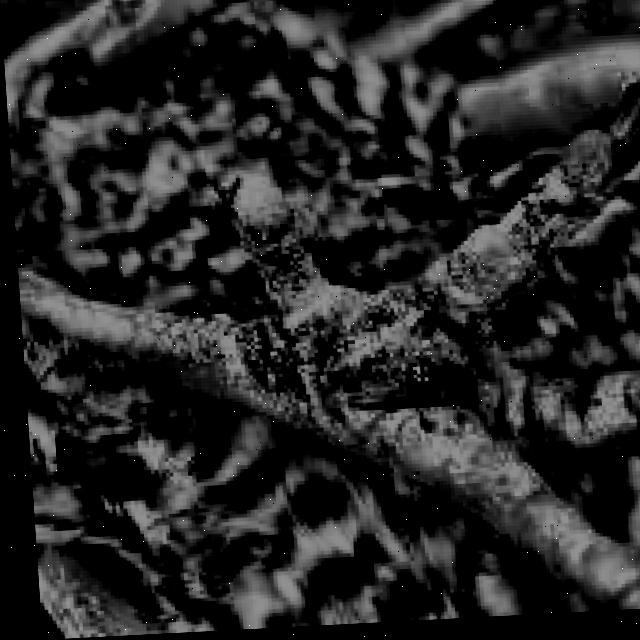Bumble foot: (1, 0, 640, 640)
